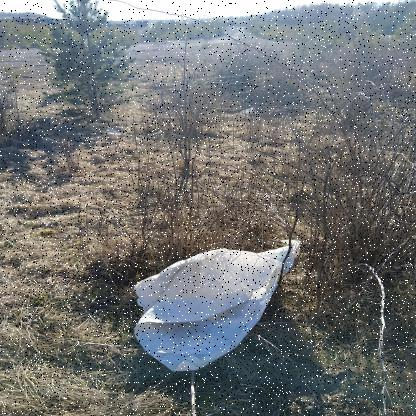other: (132, 237, 302, 372)
